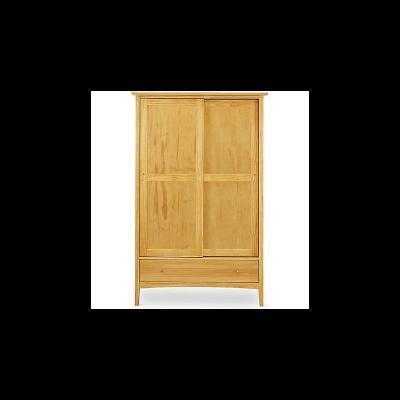Armario: (132, 97, 262, 304)
